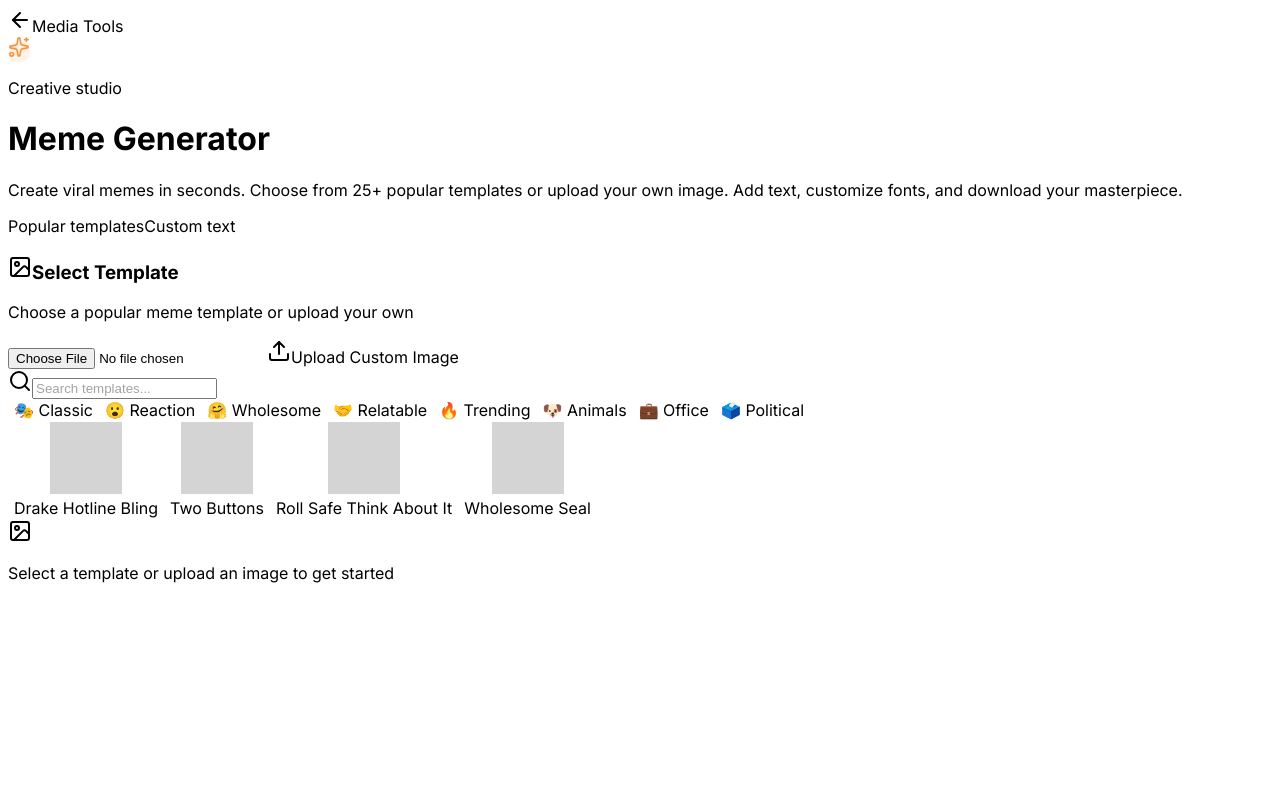
MemeGeneratorPage › Search Functionality › shows no templates found message for non-matching search
In the field with placeholder "Search templates...": (124, 389) left=32, top=378, right=217, bottom=399, type "nonexistent"
Wait 50 ms
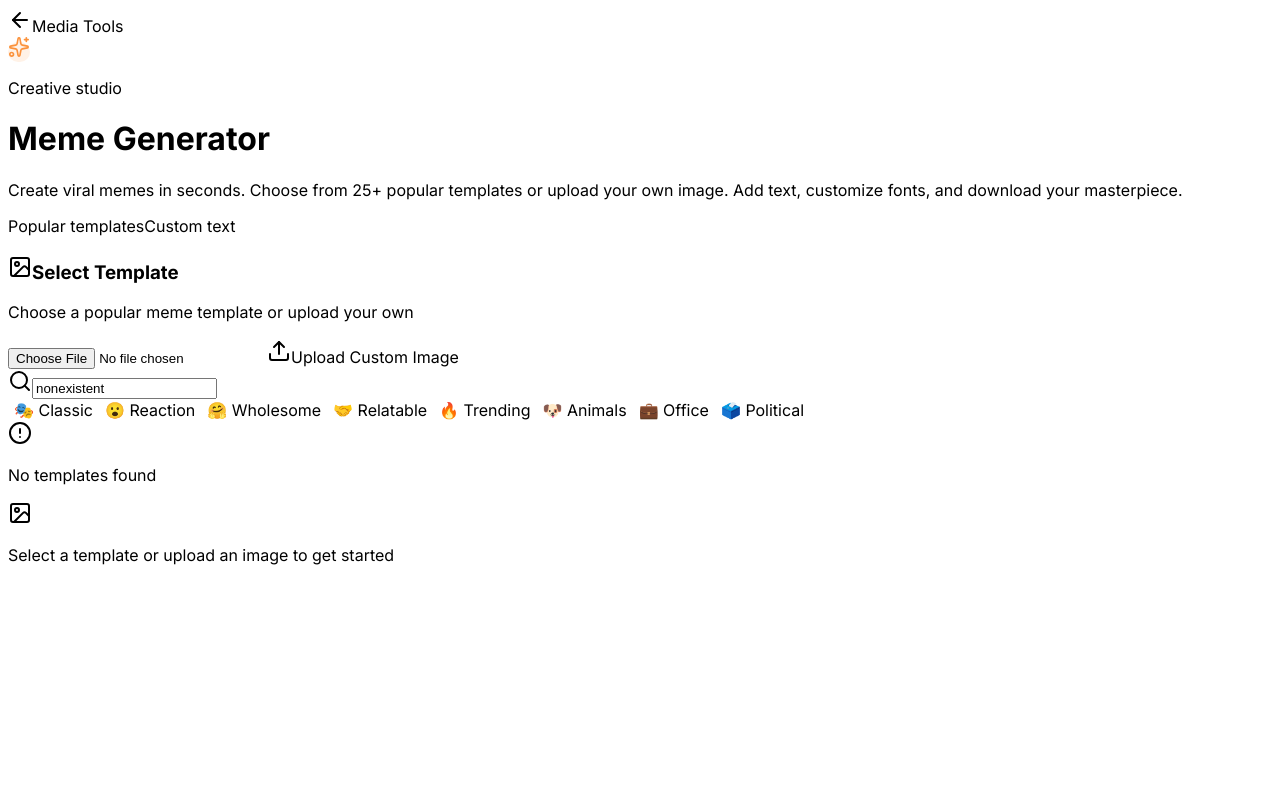
Result: the text "No templates found" is shown at left=8, top=465, right=156, bottom=485
